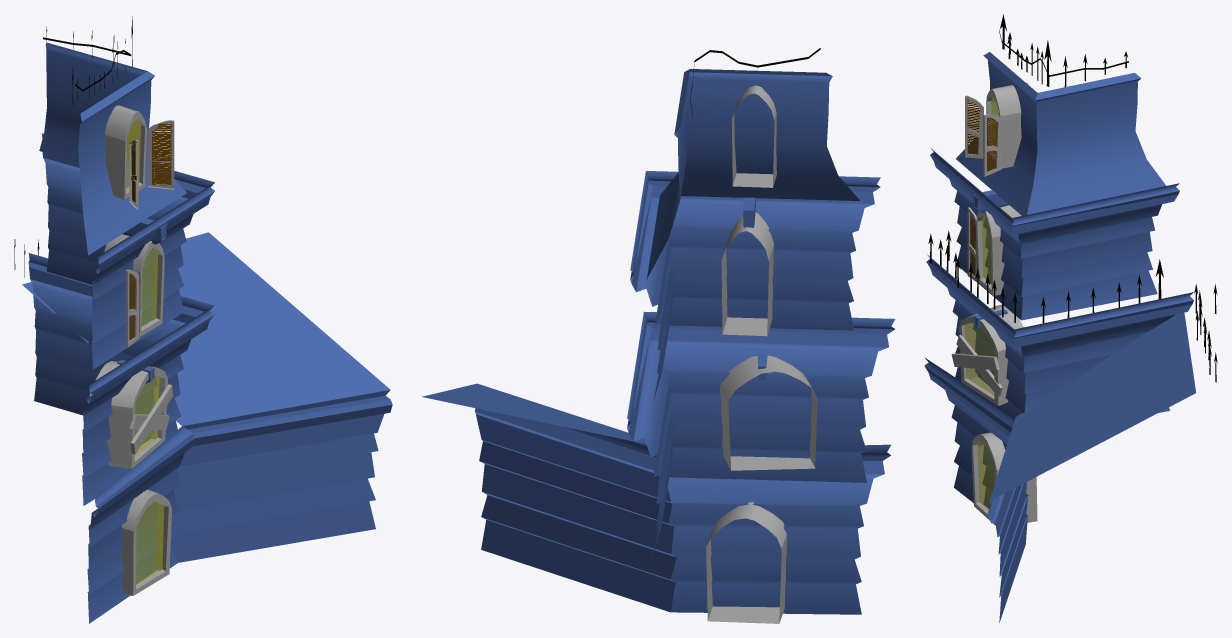
Rendered from replacement.fbx.
3 views of the same model, side by side, from view 1: azimuth 30°, elevation 25°; view 2: azimuth 150°, elevation 25°; view 3: azimuth 270°, elevation 25° (orthographic). The views are drawn at different scales.
Parts seen in each view (by area): view 1: polySurface38, polySurface37, polySurface36, pCube4, pCube56, pCube100, widow, pCube52, window_cover1, window_cover2, pCube98, polySurface1 (+1 smaller); view 2: polySurface38, polySurface37, polySurface36, pCube4, pCube100, pCube56, pCube52, widow; view 3: polySurface38, polySurface36, pCube4, polySurface37, pCube100, pCube56, widow, pCube52, polySurface34, window_cover, polySurface1, window_cover1 (+4 smaller).
Part boxes in pixels (<box>): polySurface38: <box>22,232,392,623</box>; polySurface37: <box>28,253,214,505</box>; polySurface36: <box>41,133,214,369</box>; pCube4: <box>39,42,186,255</box>; pCube56: <box>120,489,171,595</box>; pCube100: <box>89,359,167,468</box>; widow: <box>105,105,146,199</box>; pCube52: <box>104,234,164,336</box>; window_cover1: <box>147,120,174,189</box>; window_cover2: <box>126,269,139,347</box>; pCube98: <box>130,384,173,454</box>; polySurface1: <box>43,16,132,104</box>; polySurface38: <box>422,383,890,614</box>; polySurface37: <box>627,311,895,560</box>; polySurface36: <box>630,171,880,404</box>; pCube4: <box>646,69,859,279</box>; pCube100: <box>720,353,817,470</box>; pCube56: <box>706,502,786,623</box>; pCube52: <box>721,212,774,336</box>; widow: <box>732,85,776,187</box>; polySurface38: <box>924,312,1195,622</box>; polySurface36: <box>930,147,1179,320</box>; pCube4: <box>956,52,1165,215</box>; polySurface37: <box>926,254,1193,416</box>; pCube100: <box>959,304,1023,405</box>; pCube56: <box>971,432,1037,525</box>; widow: <box>986,82,1029,168</box>; pCube52: <box>976,205,1021,295</box>; polySurface34: <box>928,231,1163,323</box>; window_cover: <box>965,95,983,158</box>; polySurface1: <box>999,14,1128,86</box>; window_cover1: <box>983,114,1001,176</box>.
Bounding box in the file's own units: 8.16 × 12.66 × 6.87.
